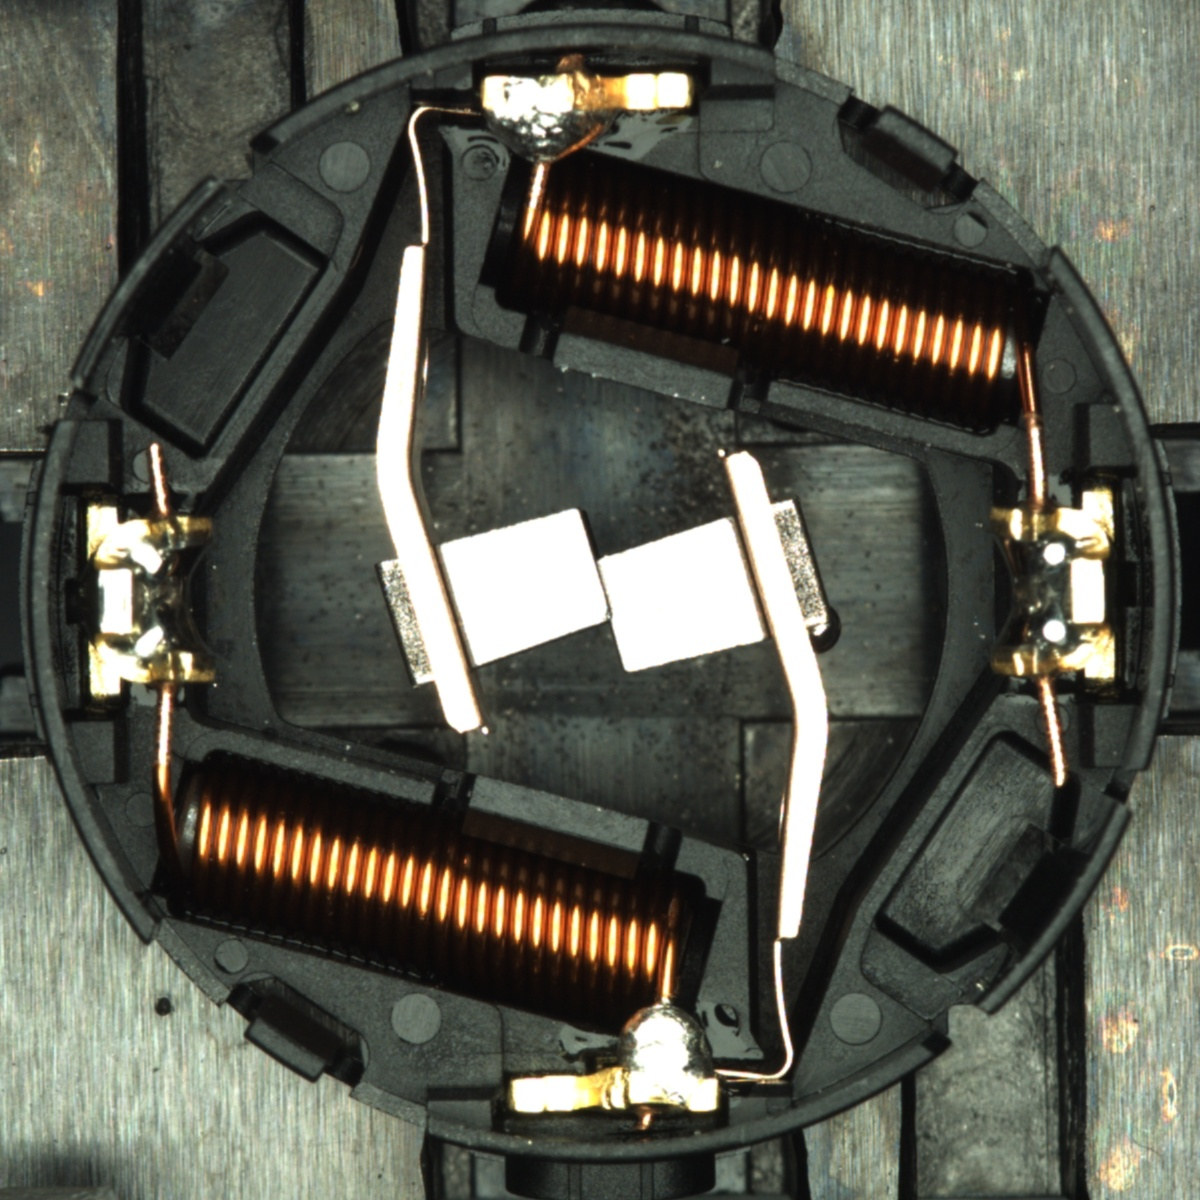1: (713, 927, 943, 1152), (255, 30, 484, 254)
2: (713, 30, 943, 254), (255, 927, 484, 1152)
3: (943, 702, 1171, 927), (25, 254, 255, 478)
4: (713, 702, 943, 927), (255, 254, 484, 478)
5: (484, 142, 713, 366), (484, 815, 713, 1040)
6: (255, 702, 484, 927), (713, 254, 943, 478)
7: (25, 702, 255, 927), (943, 254, 1171, 478)
cacbon: (398, 497, 799, 684)
chau_dien: (81, 499, 220, 700), (984, 488, 1122, 687)
hat_chi: (807, 605, 842, 656)
tay_choi: (480, 70, 696, 168)
thanh_de: (952, 788, 1140, 1029), (58, 164, 243, 404)
